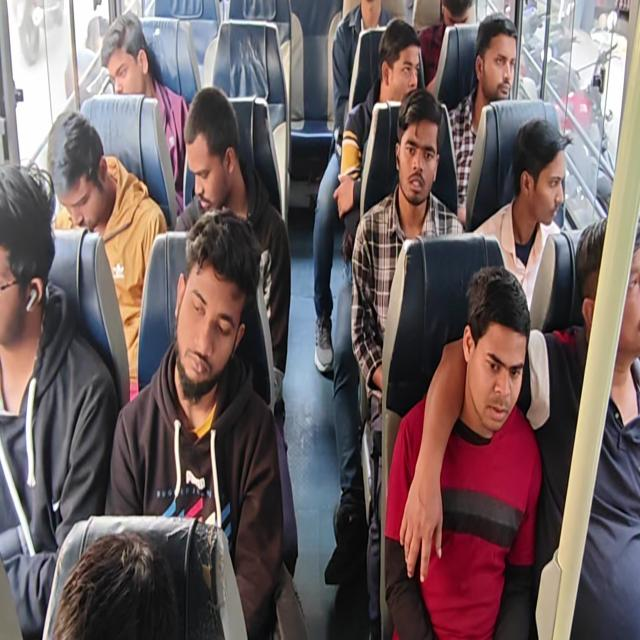person: (1, 1, 638, 638), (410, 216, 640, 638), (104, 207, 303, 638), (350, 87, 465, 637), (173, 86, 298, 576), (384, 264, 542, 638), (0, 160, 118, 637), (322, 13, 424, 563), (535, 215, 640, 639), (48, 110, 168, 401), (312, 1, 394, 374), (333, 17, 423, 278), (471, 117, 573, 320), (100, 11, 191, 212), (447, 12, 518, 224), (51, 529, 180, 639), (331, 0, 391, 156), (418, 0, 476, 94)
